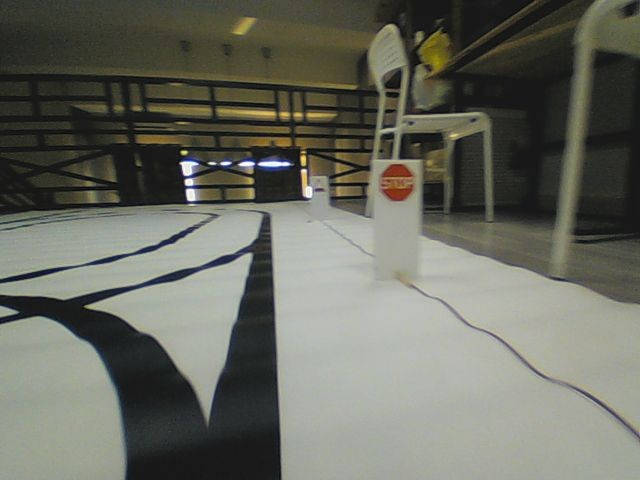Stop: (378, 162, 415, 202)
